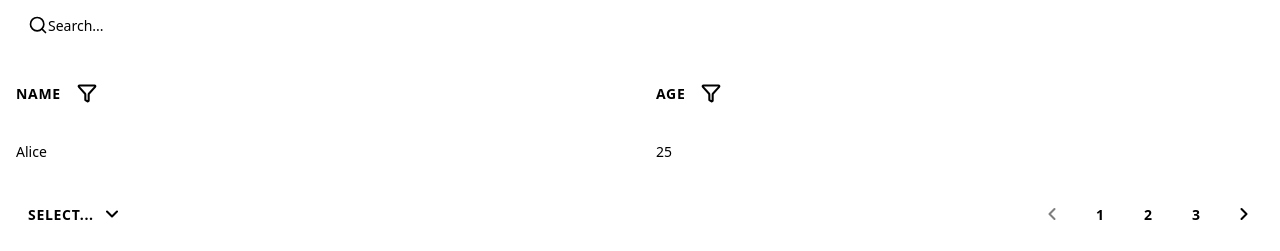
Test: Table Component › should paginate data
Expected: the text "Alice" is shown, [0, 125, 640, 178]
Click the button named "Go to next page" at {"x": 1244, "y": 214}, box [1224, 194, 1264, 234]
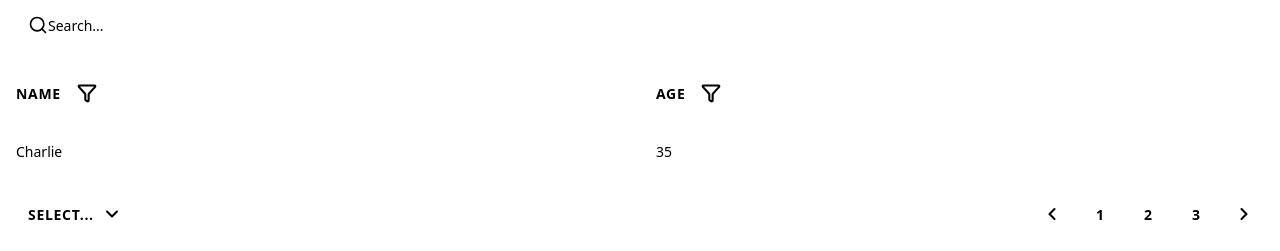
Now the text "Alice" is gone
Now the text "Charlie" is shown, box [0, 125, 640, 178]
